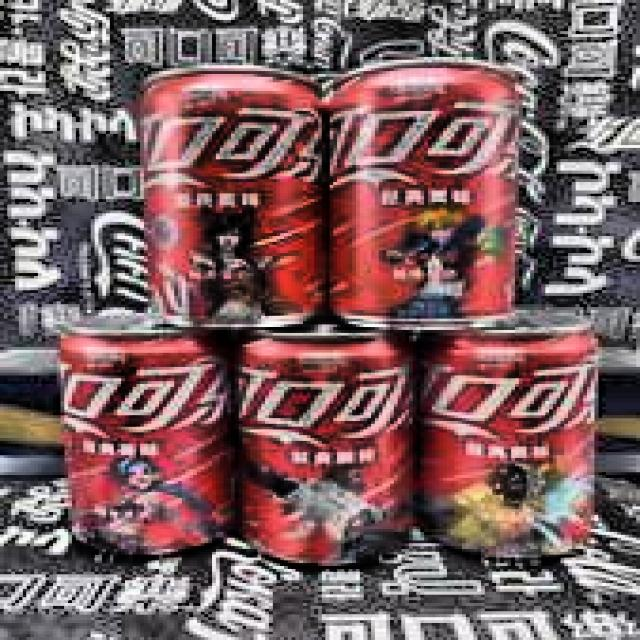Cans: (416, 284, 622, 584), (117, 60, 339, 338), (326, 46, 532, 340), (225, 296, 414, 576), (42, 304, 232, 561)
